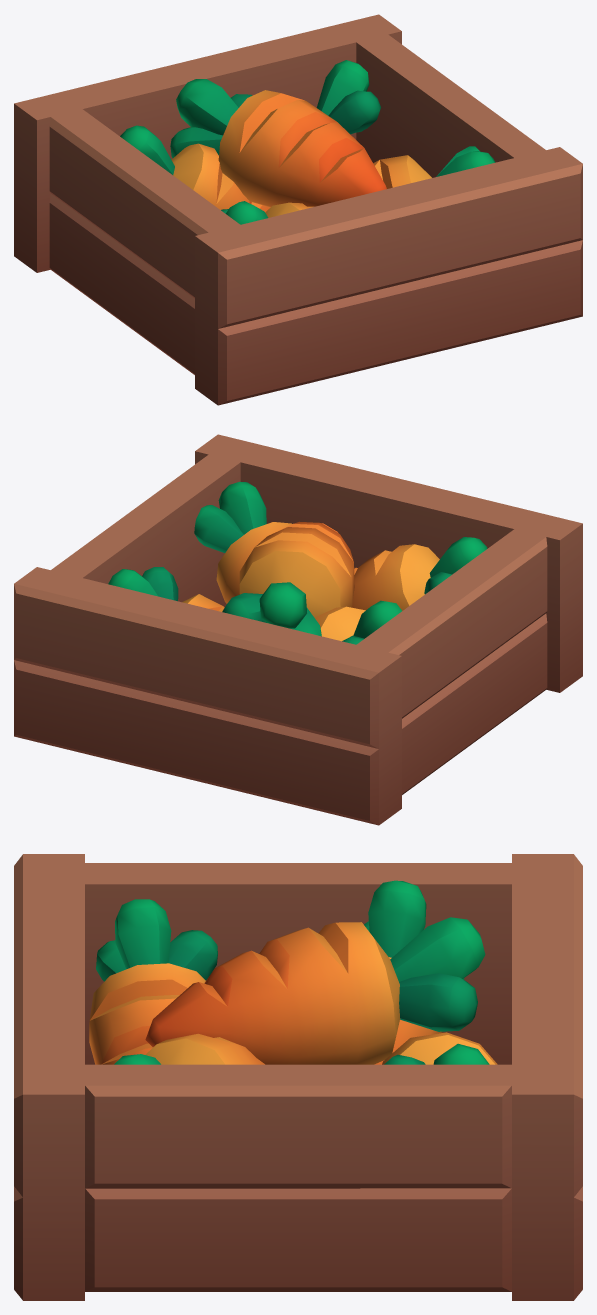
Rendered from prop_crate_carrots.glb.
The picture shows the model from 3 angles, top to bottom: view 1: azimuth 30°, elevation 25°; view 2: azimuth 150°, elevation 25°; view 3: azimuth 270°, elevation 25°; orthographic projection. The views are drawn at different scales.
Parts seen in each view (by area): view 1: crate_carrots; view 2: crate_carrots; view 3: crate_carrots.
Boxes of the visible parts, <box> form: crate_carrots: <box>14,14,582,405</box>; crate_carrots: <box>14,434,582,825</box>; crate_carrots: <box>14,854,582,1300</box>.
Bounding box in the file's own units: 2 × 0.9432 × 2.
1 material, 1 textured.
